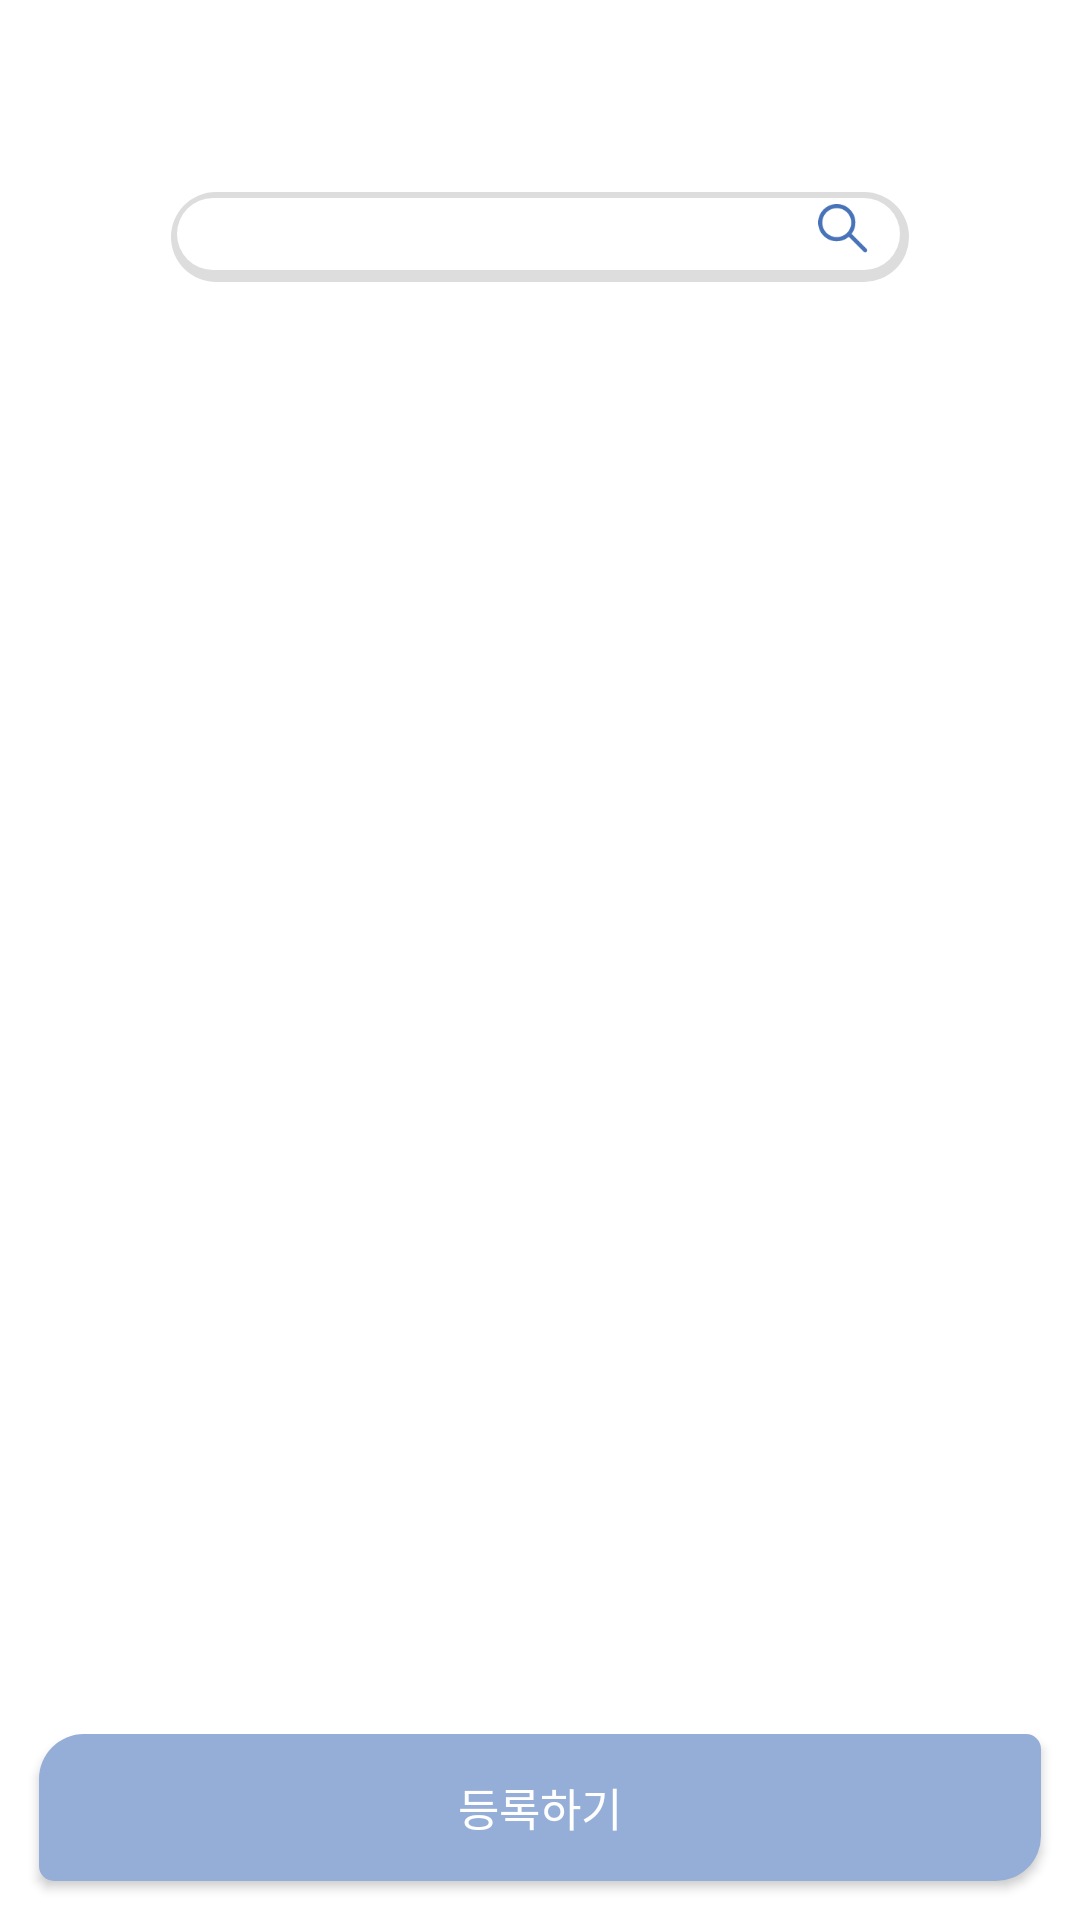

Locate icon controls on the screen. Image size 1080×1920, boxes as (x1, y1, x2, y2).
search: (818, 204, 868, 253)
